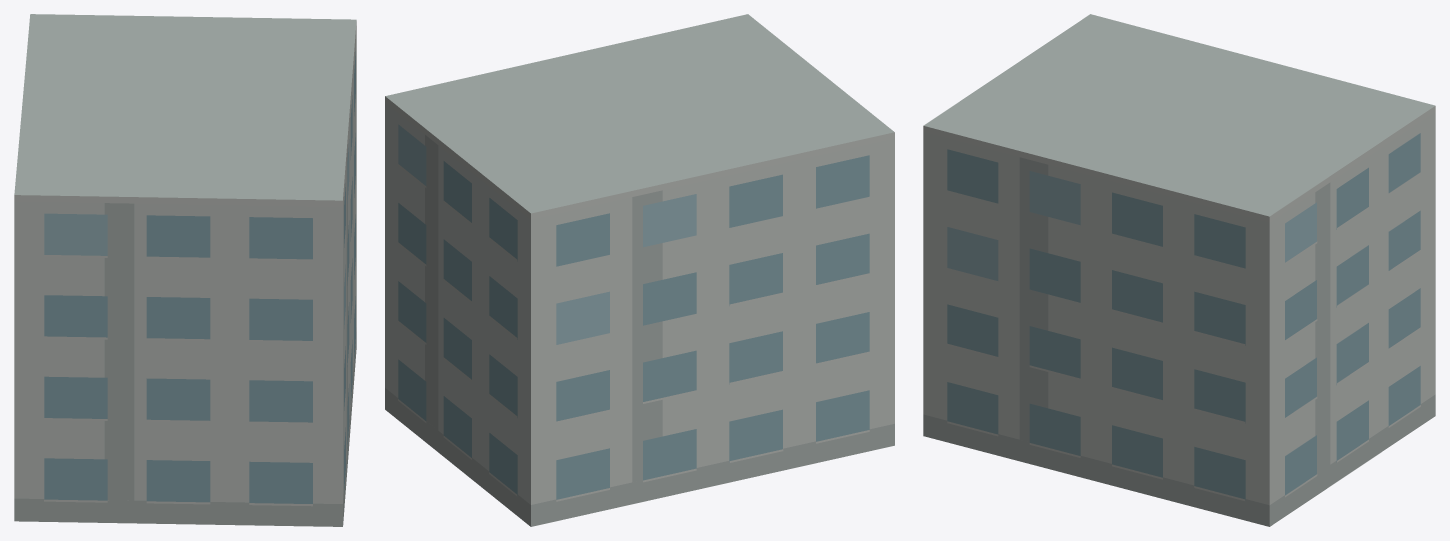
File: survey-upis-32757354.glb
3 renders of one model, left to right at view 1: azimuth 30°, elevation 25°; view 2: azimuth 150°, elevation 25°; view 3: azimuth 270°, elevation 25°, orthographic. The views are drawn at different scales.
Visible parts, largest first — view 1: survey-upis-32757354.tmp; view 2: survey-upis-32757354.tmp; view 3: survey-upis-32757354.tmp.
Boxes of the visible parts, x1,y1,x2,y2 form: survey-upis-32757354.tmp: (14,14,356,526); survey-upis-32757354.tmp: (385,14,894,526); survey-upis-32757354.tmp: (923,14,1435,526).
Size of the model in its own units: 17.09 by 12.2 by 18.26.
